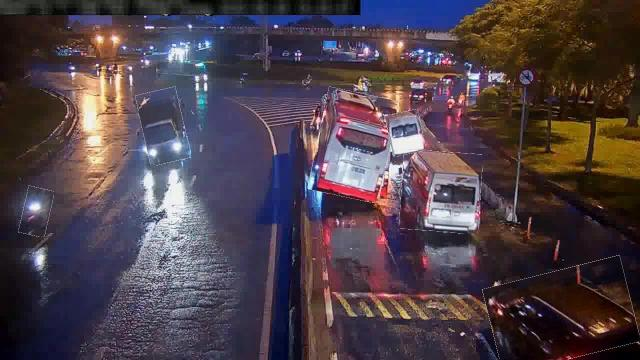Bike: (20, 188, 52, 236)
Bus: (313, 90, 395, 200), (400, 151, 482, 233), (386, 110, 424, 156)
Car: (486, 263, 636, 359)
Truck: (138, 88, 188, 164)
